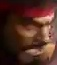ryu: (6, 3, 52, 64)
